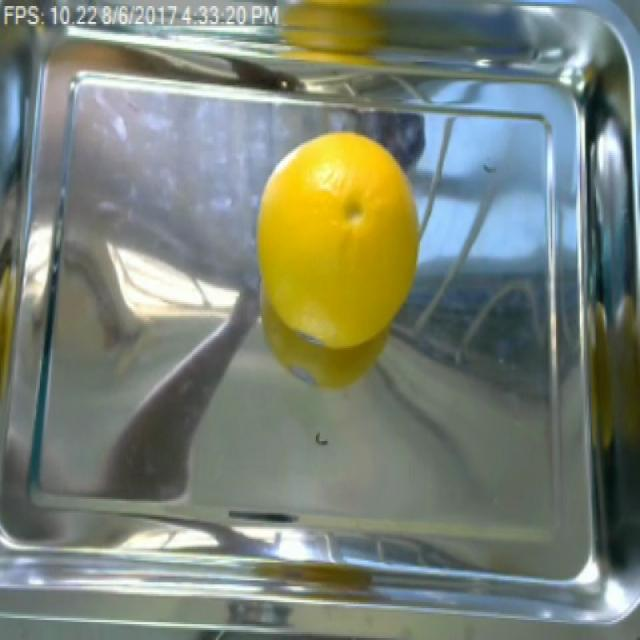Fruit: (252, 121, 428, 392), (262, 0, 414, 74)
